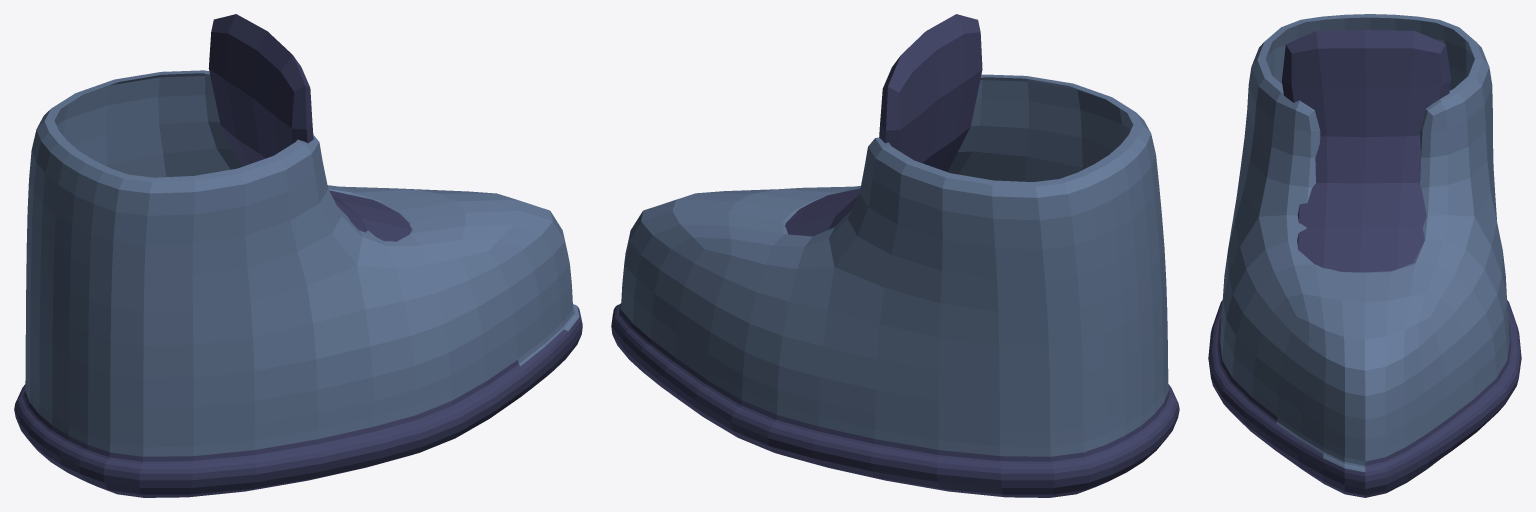
File: Speed_bonus.fbx
The picture shows the model from 3 angles, left to right: view 1: azimuth 30°, elevation 25°; view 2: azimuth 150°, elevation 25°; view 3: azimuth 270°, elevation 25°; orthographic projection. The views are drawn at different scales.
Parts seen in each view (by area): view 1: Cube, Cube.001; view 2: Cube, Cube.001; view 3: Cube, Cube.001.
Boxes of the visible parts, x1,y1,x2,y2 form: Cube: [14, 70, 582, 497]; Cube.001: [208, 14, 412, 241]; Cube: [611, 74, 1179, 497]; Cube.001: [785, 14, 982, 236]; Cube: [1208, 14, 1521, 497]; Cube.001: [1282, 30, 1451, 272].
Size of the model in its own units: 212 by 152 by 121.
